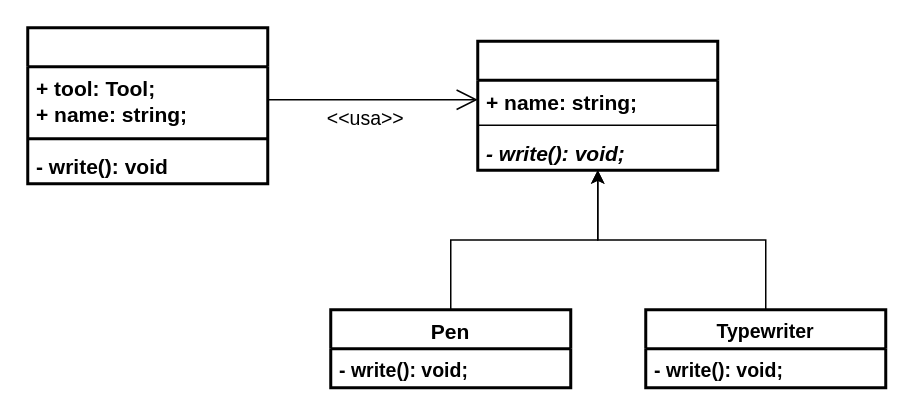
The diagram is 912 pixels wide and 417 high, and some of its shapes have lost their labels. The box of each missing label's shape, as (x1, y1, x2, y2) in pixels:
Tool: (476, 39, 718, 171)
Writer: (26, 26, 268, 184)
